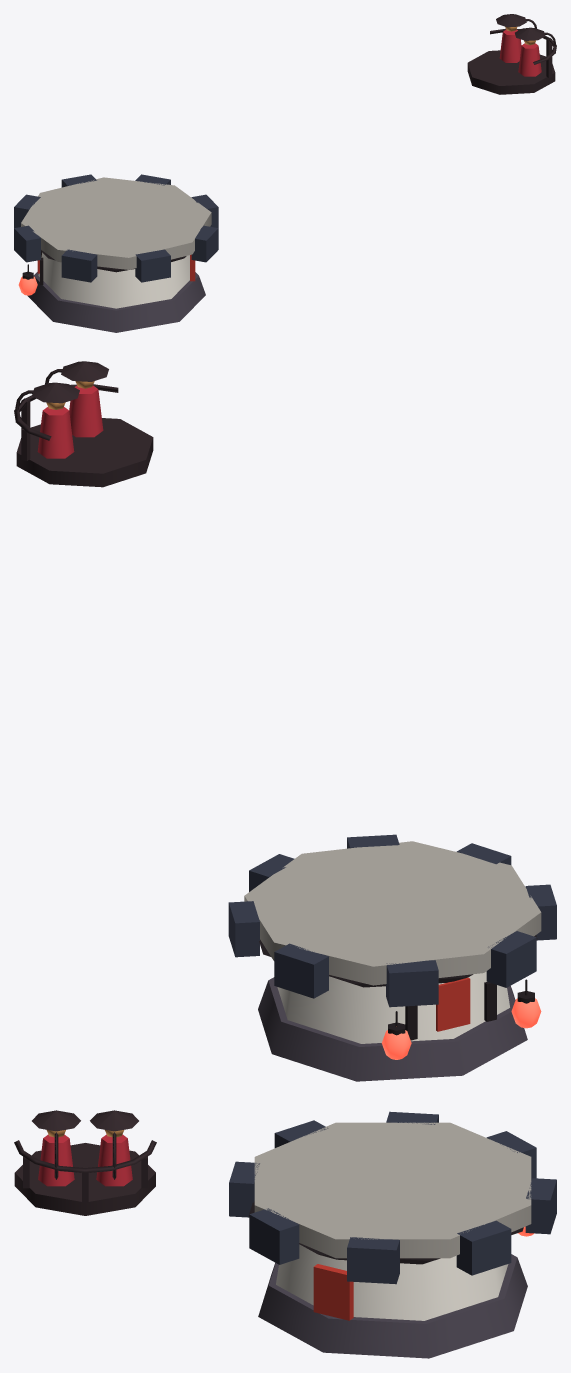
Rendered from base_standard_weapon_1.glb.
3 renders of one model, top to bottom at view 1: azimuth 30°, elevation 25°; view 2: azimuth 150°, elevation 25°; view 3: azimuth 270°, elevation 25°, orthographic. The views are drawn at different scales.
Parts seen in each view (by area): view 1: tower_slot_1_plate, tower_slot_1_footing, tower_slot_1_tower, weapon_mount, tower_slot_1_merlon_6, tower_slot_1_merlon_5, tower_slot_1_merlon_7, tower_slot_1_merlon_4, archer_r_body, archer_l_body, tower_slot_1_merlon_0; view 2: tower_slot_1_plate, tower_slot_1_footing, tower_slot_1_tower, weapon_mount, tower_slot_1_merlon_1, tower_slot_1_merlon_0, tower_slot_1_merlon_7, tower_slot_1_merlon_2, tower_slot_1_banner, archer_l_body, archer_r_body, tower_slot_1_merlon_6; view 3: tower_slot_1_plate, tower_slot_1_footing, tower_slot_1_tower, weapon_mount, tower_slot_1_merlon_2, tower_slot_1_merlon_3, tower_slot_1_merlon_4, tower_slot_1_door, tower_slot_1_merlon_1, tower_slot_1_merlon_5, archer_r_body, archer_l_body (+7 smaller).
Boxes of the visible parts, x1,y1,x2,y2 form: tower_slot_1_plate: [21, 177, 211, 269]; tower_slot_1_footing: [27, 272, 205, 332]; tower_slot_1_tower: [38, 252, 189, 308]; weapon_mount: [467, 50, 555, 94]; tower_slot_1_merlon_6: [61, 249, 97, 282]; tower_slot_1_merlon_5: [135, 249, 170, 282]; tower_slot_1_merlon_7: [14, 225, 40, 262]; tower_slot_1_merlon_4: [191, 225, 218, 262]; archer_r_body: [518, 43, 541, 76]; archer_l_body: [499, 29, 521, 62]; tower_slot_1_merlon_0: [14, 194, 40, 227]; tower_slot_1_plate: [244, 841, 541, 985]; tower_slot_1_footing: [258, 977, 527, 1081]; tower_slot_1_tower: [277, 971, 509, 1043]; weapon_mount: [16, 418, 153, 487]; tower_slot_1_merlon_1: [274, 943, 328, 998]; tower_slot_1_merlon_0: [386, 960, 438, 1007]; tower_slot_1_merlon_7: [486, 931, 536, 987]; tower_slot_1_merlon_2: [228, 901, 259, 957]; tower_slot_1_banner: [436, 977, 470, 1031]; archer_l_body: [37, 407, 74, 458]; archer_r_body: [69, 385, 103, 437]; tower_slot_1_merlon_6: [525, 884, 556, 940]; tower_slot_1_plate: [254, 1122, 531, 1258]; tower_slot_1_footing: [258, 1254, 527, 1358]; tower_slot_1_tower: [276, 1244, 508, 1320]; weapon_mount: [14, 1143, 155, 1215]; tower_slot_1_merlon_2: [456, 1220, 511, 1275]; tower_slot_1_merlon_3: [347, 1237, 399, 1284]; tower_slot_1_merlon_4: [249, 1208, 299, 1264]; tower_slot_1_door: [313, 1264, 353, 1320]; tower_slot_1_merlon_1: [525, 1178, 556, 1234]; tower_slot_1_merlon_5: [229, 1161, 259, 1217]; archer_r_body: [38, 1134, 74, 1186]; archer_l_body: [96, 1134, 132, 1186].
Size of the model in its own units: 0.9305 by 0.562 by 0.6532.
